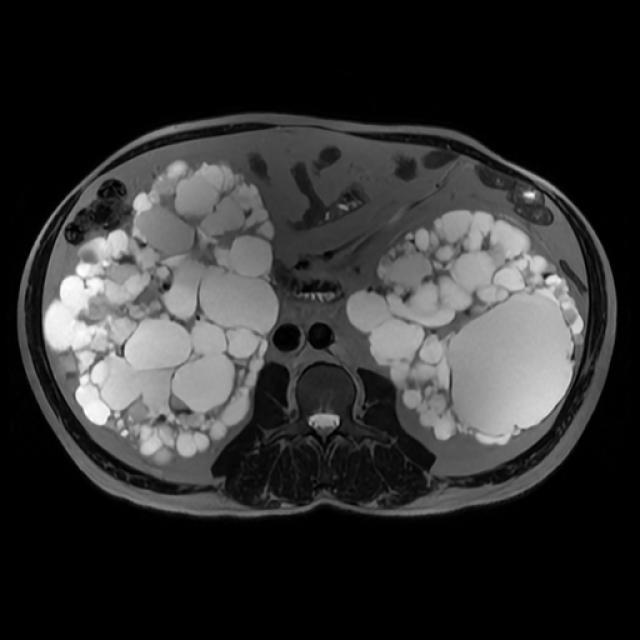sag: (48, 161, 279, 466)
sol: (347, 212, 581, 445)
